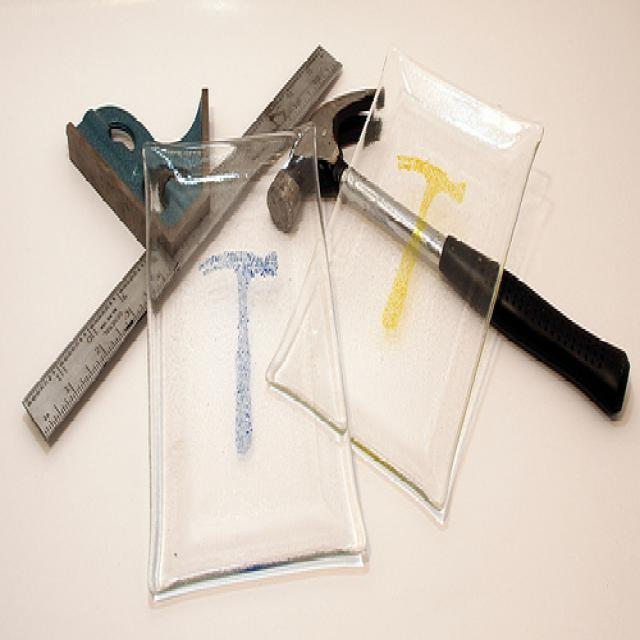hammer: (256, 72, 639, 430)
